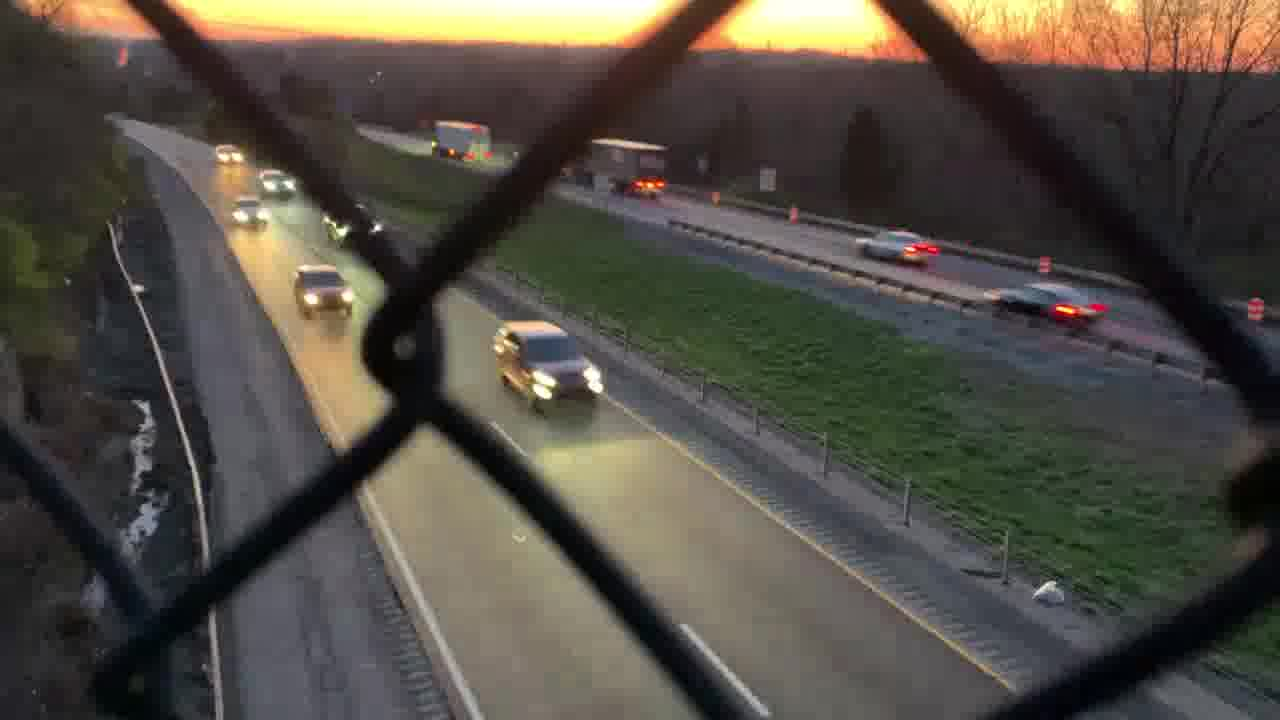heavyTruck: (567, 137, 666, 202), (427, 120, 494, 165)
largeCar: (492, 320, 606, 413)
smallCar: (986, 278, 1111, 327), (854, 227, 944, 267)
